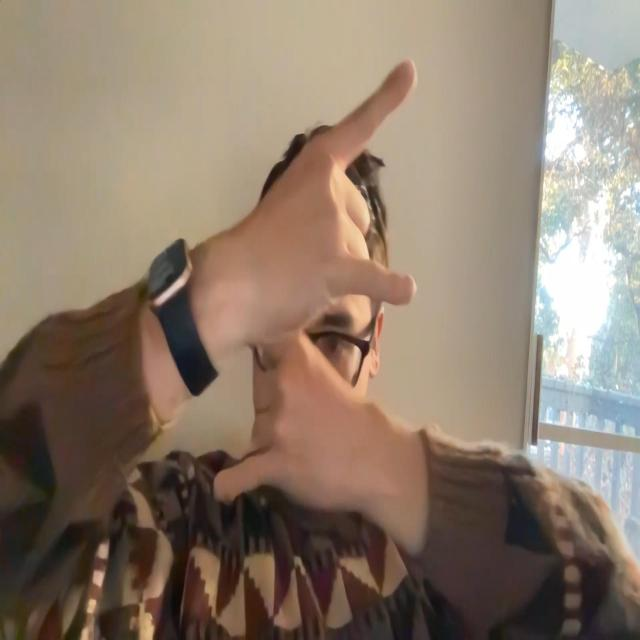face: (253, 244, 373, 453)
